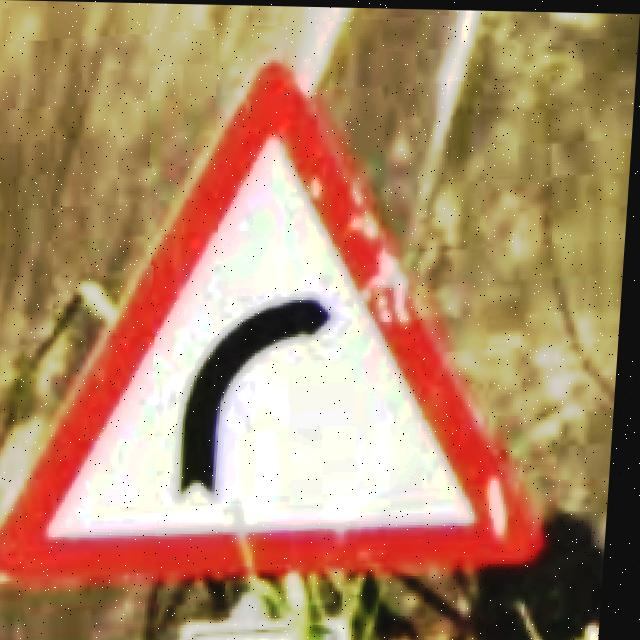rightbend: (0, 62, 554, 588)
